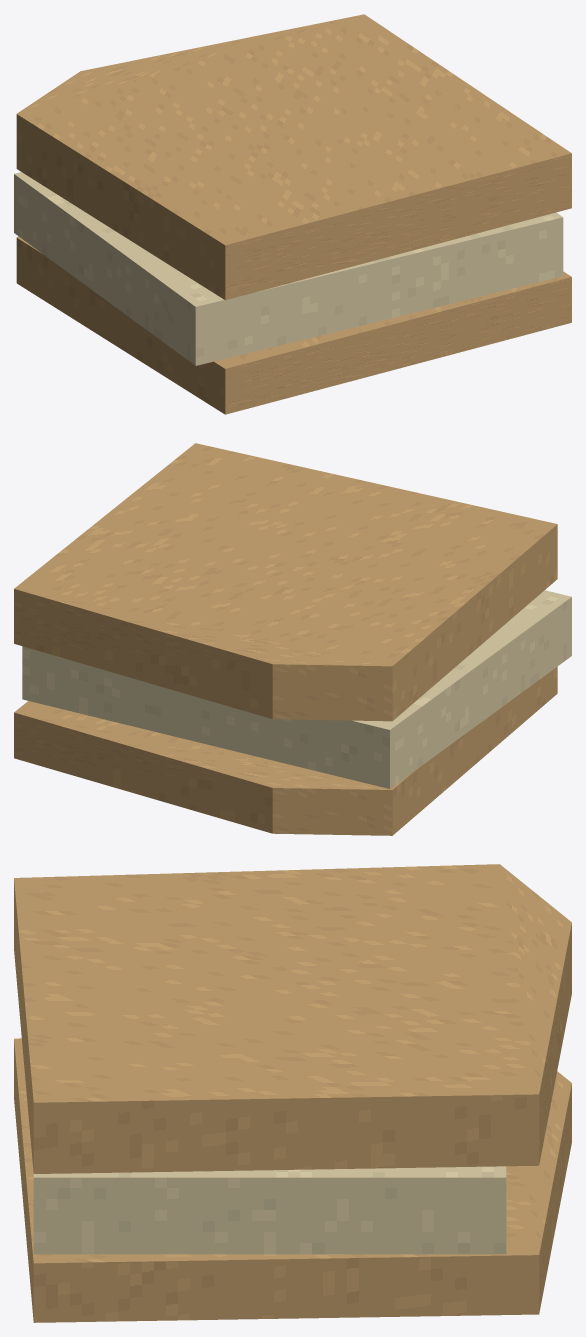
The model's file is sandwich_egg_salad.glb.
3 views of the same model, one above another, from view 1: azimuth 30°, elevation 25°; view 2: azimuth 150°, elevation 25°; view 3: azimuth 270°, elevation 25° (orthographic). The views are drawn at different scales.
Parts seen in each view (by area): view 1: block_upper slice, block_filling, block_lower slice; view 2: block_upper slice, block_filling, block_lower slice; view 3: block_upper slice, block_lower slice, block_filling.
Boxes of the visible parts, bbox=[...] form: block_upper slice: bbox=[16, 14, 571, 300]; block_filling: bbox=[14, 172, 563, 365]; block_lower slice: bbox=[16, 236, 571, 414]; block_upper slice: bbox=[14, 443, 557, 721]; block_filling: bbox=[22, 590, 571, 788]; block_lower slice: bbox=[14, 666, 557, 835]; block_upper slice: bbox=[14, 864, 571, 1173]; block_lower slice: bbox=[14, 1038, 571, 1322]; block_filling: bbox=[33, 1166, 506, 1254].
Size of the model in its own units: 0.1437 by 0.0618 by 0.142.
1 material, 1 textured.
